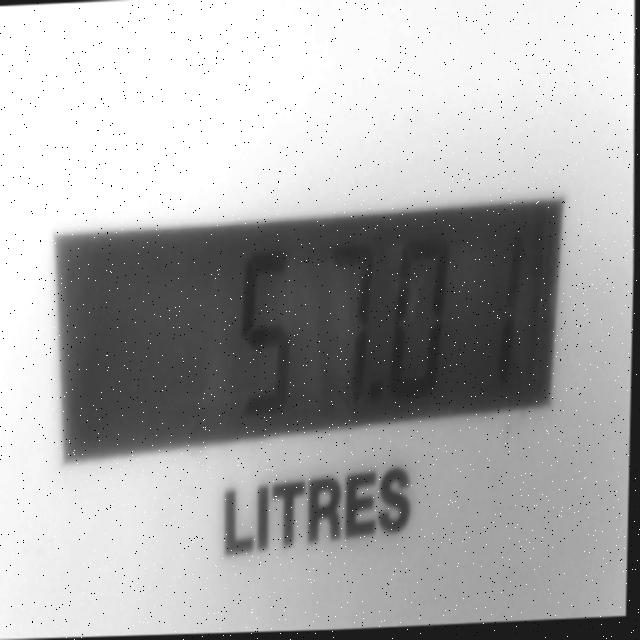.: (363, 367, 393, 420)
0: (376, 225, 465, 412)
1: (478, 217, 535, 400)
5: (228, 241, 308, 441)
7: (310, 222, 381, 426)
